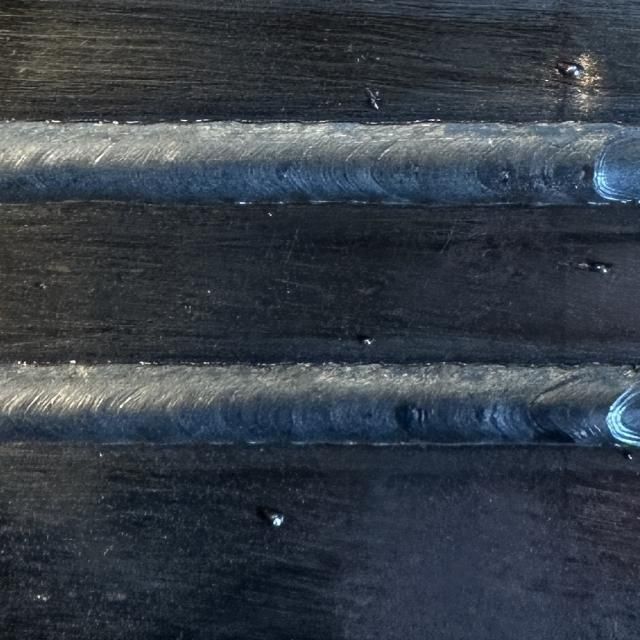Spatters: (557, 61, 585, 77), (365, 88, 380, 110), (588, 263, 612, 274), (272, 514, 283, 526), (362, 339, 372, 345), (627, 452, 633, 460)
